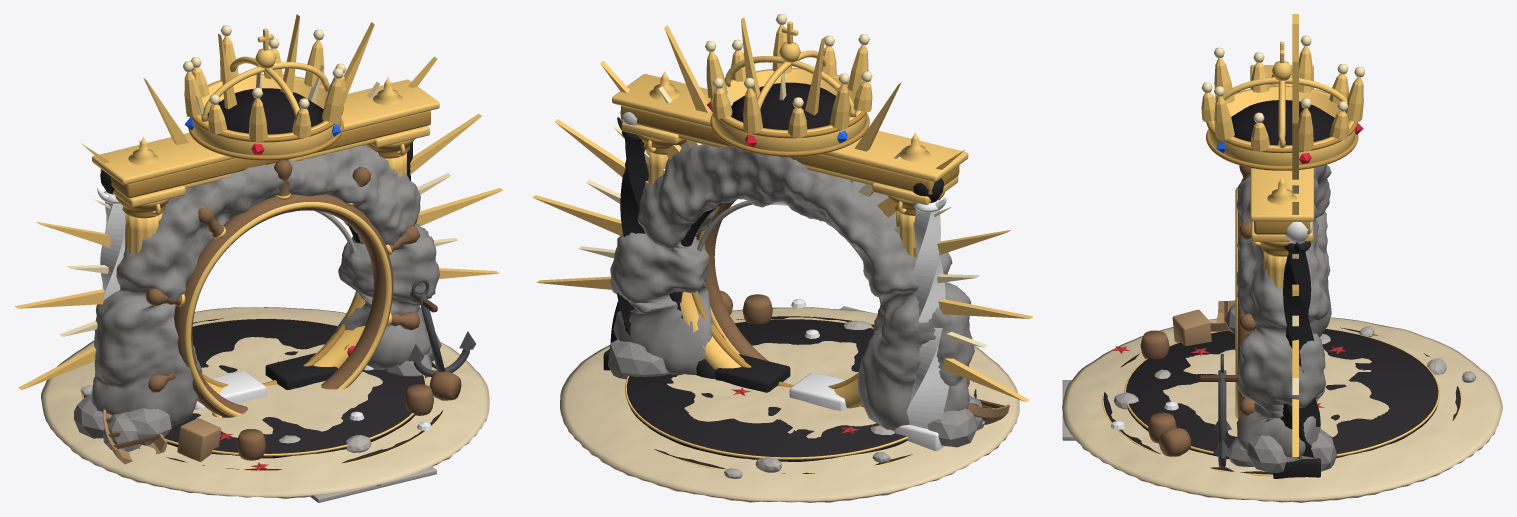
The model's file is Portals.glb.
3 views of the same model, side by side, from view 1: azimuth 30°, elevation 25°; view 2: azimuth 150°, elevation 25°; view 3: azimuth 270°, elevation 25° (orthographic). The views are drawn at different scales.
Parts seen in each view (by area): view 1: PortalFallen__Rock_S1, PortalFallen__Sand_S1, PortalMidas__Gold_1, PortalFallen__Wood_1, PortalMidas__MarbleDark_S1, PortalMidas__GoldDeep_1, PortalFallen__Gold_1, PortalFallen__Rock_S2, PortalBrothers__White_S1, PortalMidas__Ink_1, PortalMidas__GoldPale_1, PortalFallen__Plank_1 (+5 smaller); view 2: PortalFallen__Rock_S1, PortalFallen__Sand_S1, PortalMidas__Gold_1, PortalMidas__MarbleDark_S1, PortalBrothers__White_S1, PortalMidas__GoldDeep_1, PortalBrothers__Black_S1, PortalFallen__Rock_S2, PortalMidas__GoldPale_1, PortalFallen__Wood_1, PortalMidas__Ink_1, PortalBrothers__Black_1 (+3 smaller); view 3: PortalFallen__Sand_S1, PortalMidas__Gold_1, PortalFallen__Rock_S1, PortalMidas__MarbleDark_S1, PortalBrothers__Black_S1, PortalFallen__Wood_1, PortalFallen__Rock_S2, PortalMidas__GoldDeep_1, PortalMidas__Ink_1, PortalFallen__Plank_1, PortalMidas__GoldPale_1, PortalFallen__Stone_1 (+3 smaller).
Part boxes in pixels (<box>): PortalFallen__Rock_S1: <box>91,145,439,425</box>; PortalFallen__Sand_S1: <box>41,307,489,498</box>; PortalMidas__Gold_1: <box>15,14,503,471</box>; PortalFallen__Wood_1: <box>146,159,461,460</box>; PortalMidas__MarbleDark_S1: <box>83,318,442,470</box>; PortalMidas__GoldDeep_1: <box>100,74,430,387</box>; PortalFallen__Gold_1: <box>176,193,392,417</box>; PortalFallen__Rock_S2: <box>73,331,441,451</box>; PortalBrothers__White_S1: <box>91,201,266,403</box>; PortalMidas__Ink_1: <box>208,88,323,134</box>; PortalMidas__GoldPale_1: <box>59,25,458,336</box>; PortalFallen__Plank_1: <box>103,409,221,464</box>; PortalFallen__Rock_S1: <box>610,141,974,431</box>; PortalFallen__Sand_S1: <box>560,307,1019,502</box>; PortalMidas__Gold_1: <box>532,17,1033,474</box>; PortalMidas__MarbleDark_S1: <box>626,316,976,473</box>; PortalBrothers__White_S1: <box>789,209,948,451</box>; PortalMidas__GoldDeep_1: <box>621,68,959,407</box>; PortalBrothers__Black_S1: <box>603,138,790,392</box>; PortalFallen__Rock_S2: <box>608,339,983,447</box>; PortalMidas__GoldPale_1: <box>578,14,987,347</box>; PortalFallen__Wood_1: <box>696,199,947,361</box>; PortalMidas__Ink_1: <box>731,82,835,129</box>; PortalBrothers__Black_1: <box>617,117,943,378</box>; PortalFallen__Sand_S1: <box>1062,317,1502,502</box>; PortalMidas__Gold_1: <box>1102,14,1462,476</box>; PortalFallen__Rock_S1: <box>1235,164,1331,459</box>; PortalMidas__MarbleDark_S1: <box>1103,327,1460,474</box>; PortalBrothers__Black_S1: <box>1273,251,1320,478</box>; PortalFallen__Wood_1: <box>1140,165,1256,456</box>; PortalFallen__Rock_S2: <box>1224,304,1336,472</box>; PortalMidas__GoldDeep_1: <box>1206,86,1358,256</box>; PortalMidas__Ink_1: <box>1231,100,1334,145</box>; PortalFallen__Plank_1: <box>1172,300,1235,345</box>; PortalMidas__GoldPale_1: <box>1201,35,1364,394</box>; PortalFallen__Stone_1: <box>1114,326,1476,409</box>.
Size of the model in its own units: 73.52 by 60.1 by 58.94.
